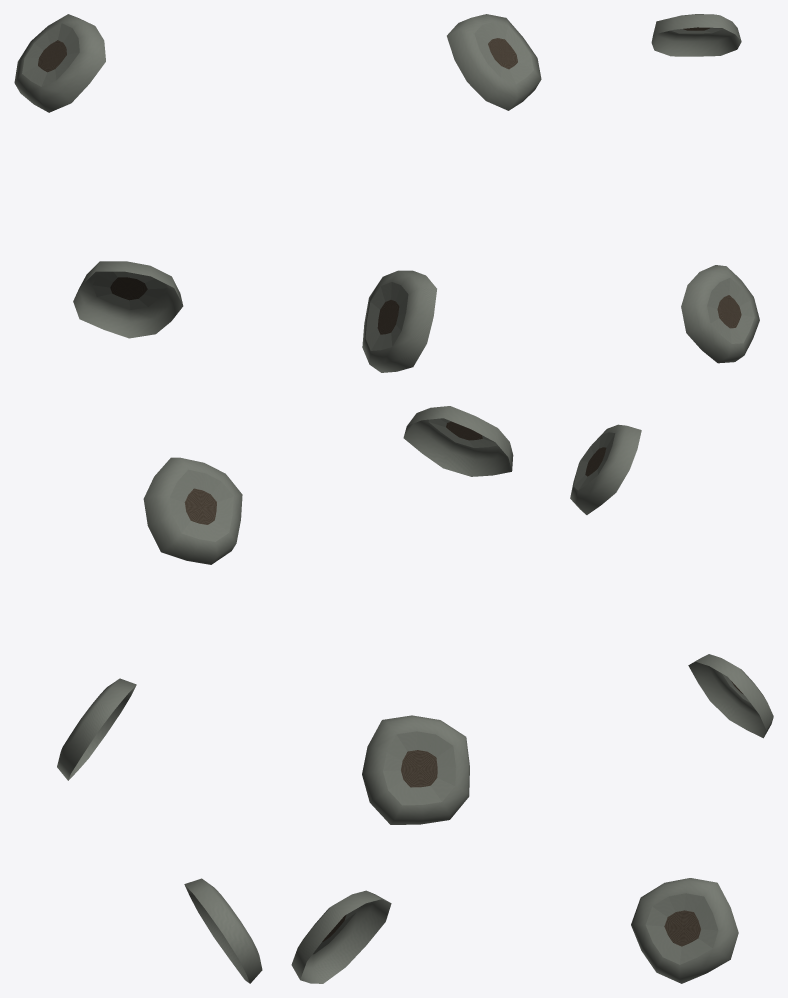
File: Beech_Mature_02_MediumPruned_Healed_LOD2.fbx
3 renders of one model, left to right at view 1: azimuth 30°, elevation 25°; view 2: azimuth 150°, elevation 25°; view 3: azimuth 270°, elevation 25°, orthographic. The views are drawn at different scales.
Visible parts, largest first — view 1: Beech_Mature_02_MediumPruned_Healed_LOD2_Scars; view 2: Beech_Mature_02_MediumPruned_Healed_LOD2_Scars; view 3: Beech_Mature_02_MediumPruned_Healed_LOD2_Scars.
Part boxes in pixels (<box>): Beech_Mature_02_MediumPruned_Healed_LOD2_Scars: <box>14,14,262,983</box>; Beech_Mature_02_MediumPruned_Healed_LOD2_Scars: <box>291,14,541,983</box>; Beech_Mature_02_MediumPruned_Healed_LOD2_Scars: <box>570,14,773,983</box>.
Size of what is drawn, in the model's own units: 69.15 by 295 by 60.35.
Materials: 2 (2 with a texture image).
